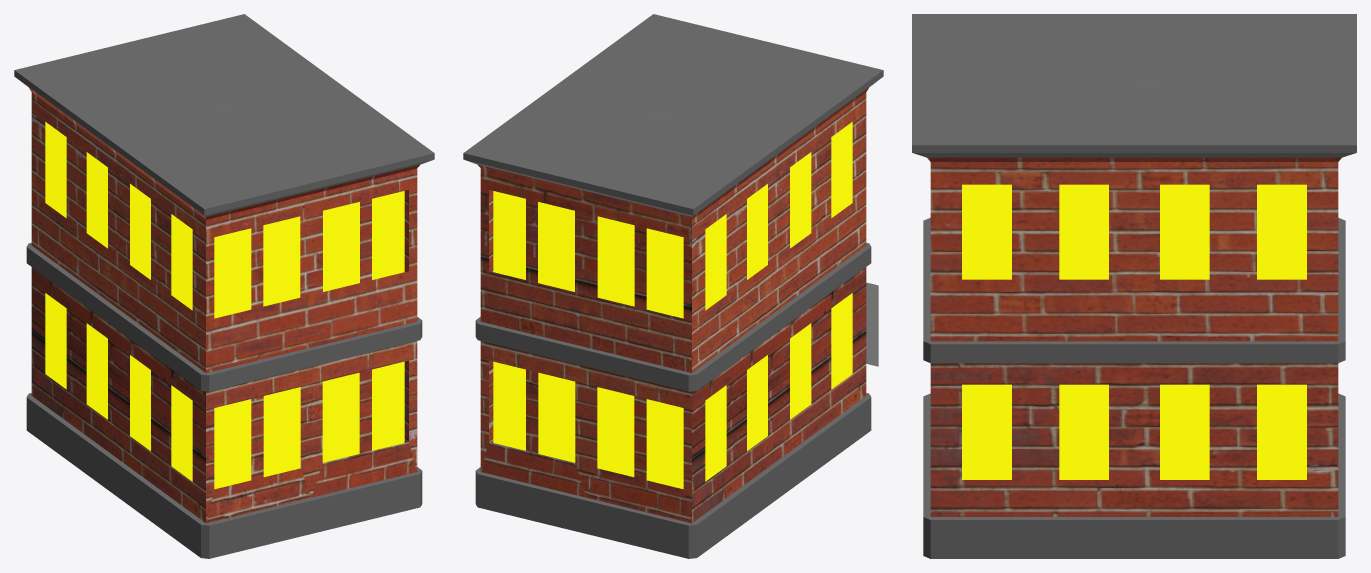
The model's file is house_brick.gltf.
3 renders of one model, left to right at view 1: azimuth 30°, elevation 25°; view 2: azimuth 150°, elevation 25°; view 3: azimuth 270°, elevation 25°, orthographic. The views are drawn at different scales.
Parts seen in each view (by area): view 1: Cube.001, Cube.009; view 2: Cube.001, Cube.009, Cube.002; view 3: Cube.001, Cube.009.
Part boxes in pixels (<box>): Cube.001: <box>14,14,434,558</box>; Cube.009: <box>45,122,404,489</box>; Cube.001: <box>463,14,883,558</box>; Cube.009: <box>493,122,852,489</box>; Cube.002: <box>866,282,878,366</box>; Cube.001: <box>912,14,1356,558</box>; Cube.009: <box>962,184,1306,479</box>.
Bounding box in the file's own units: 2.21 × 3.22 × 3.12.
2 materials, 1 textured.
